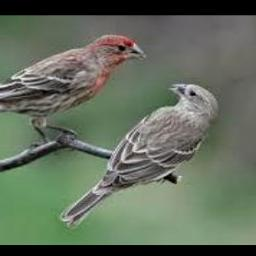Sparrow: (59, 84, 219, 228), (0, 34, 145, 144)
